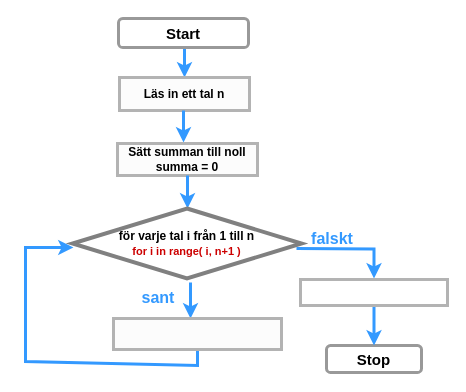
The diagram is 466 pixels wide and 392 high, and some of its shapes have lost their labels. Here are the shapes that lost their labels. From the top down, the centre of each, then its label:
At pixel 373 292: "Skriva ut summan".
At pixel 197 333: "Lägg till talet i till summan".
